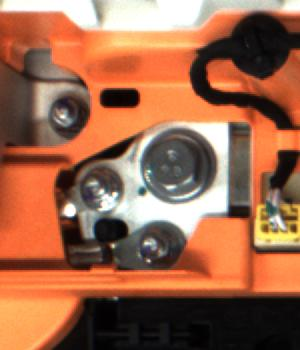nut_b: (138, 125, 217, 209)
screw_s: (77, 171, 121, 213), (133, 227, 177, 266), (45, 100, 91, 135)
